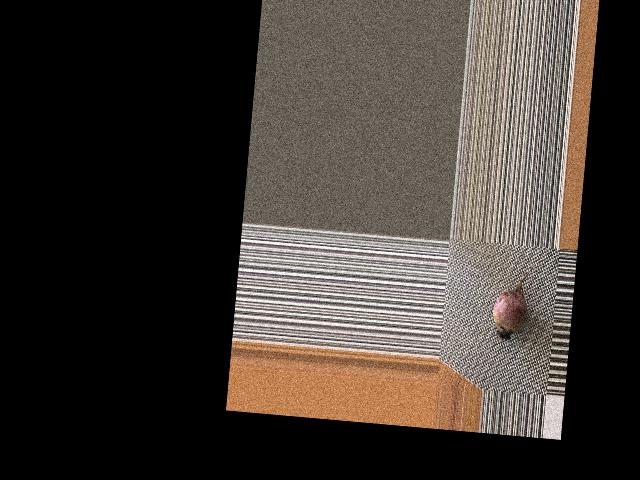beet: (491, 254, 545, 345)
